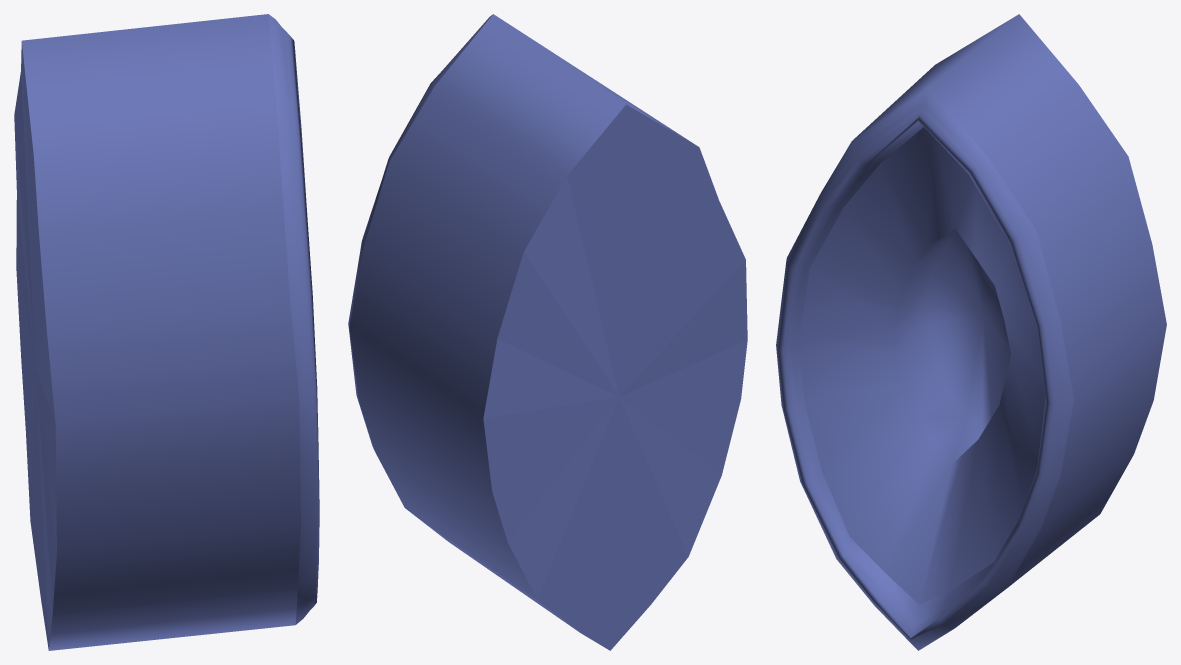
File: BR5_8shapes_Marquise_Classic_Metal.001 3.glb
3 views of the same model, side by side, from view 1: azimuth 30°, elevation 25°; view 2: azimuth 150°, elevation 25°; view 3: azimuth 270°, elevation 25° (orthographic). The views are drawn at different scales.
Visible parts, largest first — view 1: BR5_8shapes_Marquise_Classic_Metal.001; view 2: BR5_8shapes_Marquise_Classic_Metal.001; view 3: BR5_8shapes_Marquise_Classic_Metal.001.
Boxes of the visible parts, x1,y1,x2,y2 form: BR5_8shapes_Marquise_Classic_Metal.001: [14, 14, 319, 650]; BR5_8shapes_Marquise_Classic_Metal.001: [348, 14, 747, 650]; BR5_8shapes_Marquise_Classic_Metal.001: [776, 14, 1166, 650].
Bounding box in the file's own units: 0.3997 × 0.7055 × 0.4399.
